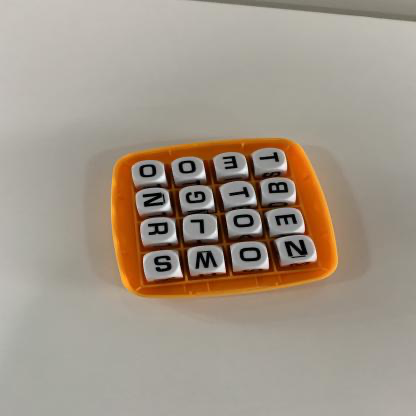b: (264, 179, 296, 201)
e: (269, 209, 303, 234), (216, 153, 248, 175)
g: (181, 186, 213, 210)
l: (184, 215, 218, 240)
n: (281, 236, 316, 263), (138, 190, 171, 212)
o: (233, 243, 268, 270), (228, 210, 261, 235), (133, 161, 165, 183), (173, 158, 205, 180)
r: (142, 219, 177, 244)
s: (145, 252, 180, 279)
t: (223, 182, 255, 204), (256, 148, 286, 171)
w: (189, 246, 224, 273)
